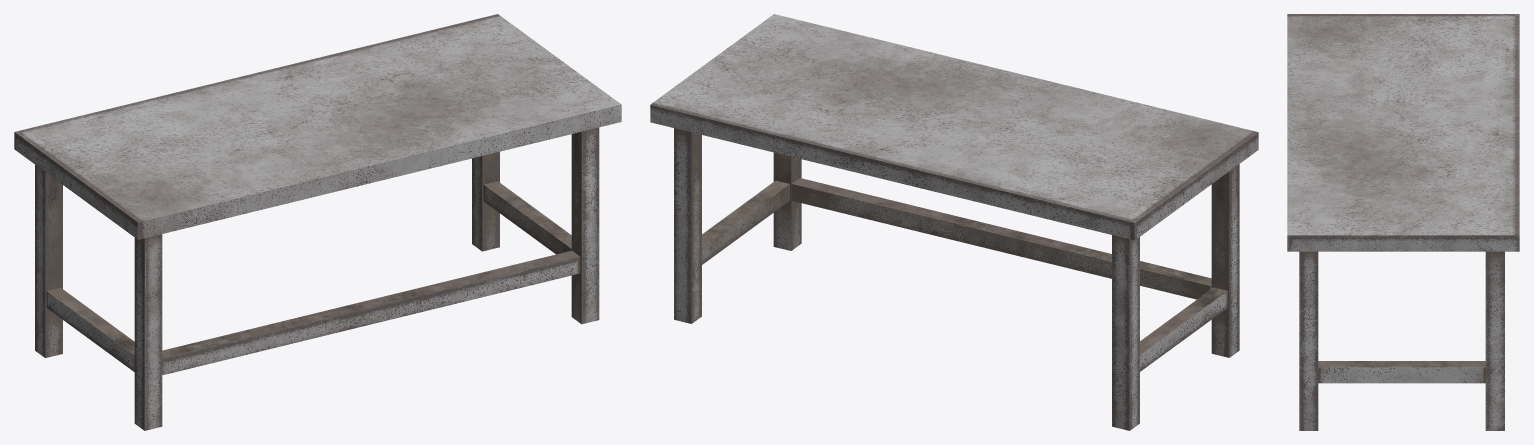
File: DeskMetal.fbx
3 views of the same model, side by side, from view 1: azimuth 30°, elevation 25°; view 2: azimuth 150°, elevation 25°; view 3: azimuth 270°, elevation 25° (orthographic). The views are drawn at different scales.
Visible parts, largest first — view 1: DeskBedroom; view 2: DeskBedroom; view 3: DeskBedroom.
Boxes of the visible parts, x1,y1,x2,y2 form: DeskBedroom: [14, 14, 621, 430]; DeskBedroom: [650, 14, 1258, 430]; DeskBedroom: [1287, 14, 1519, 430].
Size of the model in its own units: 1.8 by 0.7697 by 0.7978.
Materials: 1 (1 with a texture image).
